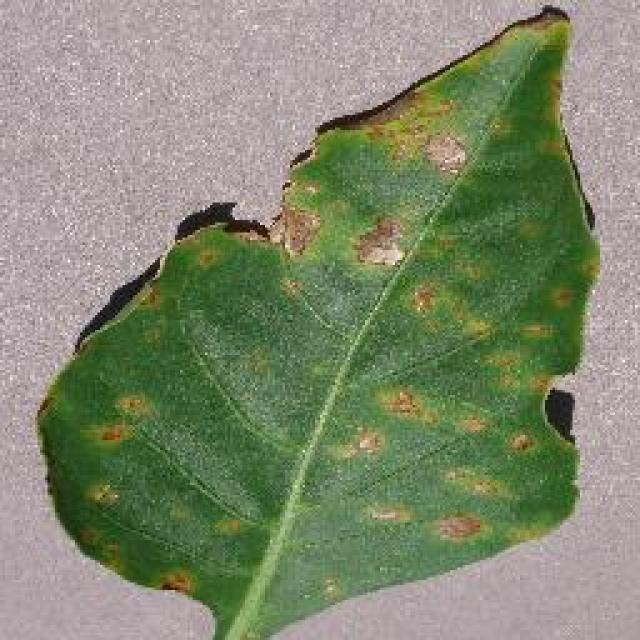Chilli_Bacterial_Spot: (32, 2, 602, 638), (348, 212, 408, 272), (370, 380, 440, 428), (435, 460, 507, 502), (275, 200, 323, 260), (418, 128, 470, 180), (538, 385, 578, 445), (332, 423, 388, 465), (430, 508, 485, 548), (363, 498, 415, 530), (218, 215, 272, 245), (378, 385, 422, 420), (80, 478, 122, 512), (405, 278, 440, 318), (208, 510, 248, 542), (153, 568, 195, 598), (112, 390, 150, 420), (92, 420, 130, 448), (505, 428, 537, 458)
